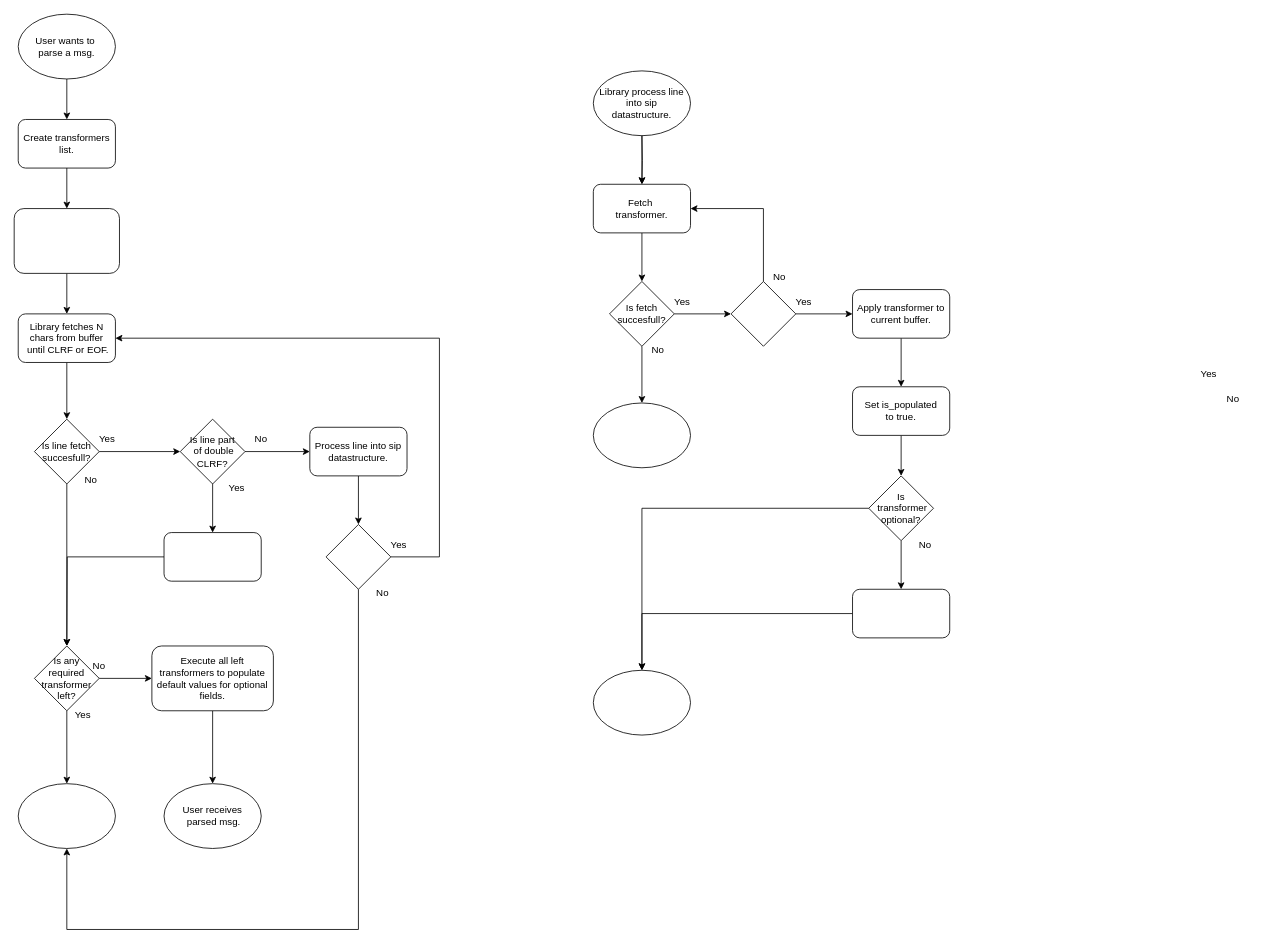
Image size: 1272x950. Some labels were removed from this diagram. The centre of each missing label's shape, as x and y in pixels:
Can transformer be applied?: the point at 763,313
Delete transformer from transformers list.: the point at 901,613
Is processing succesfull?: the point at 358,556
Line cannot be parsed: the point at 642,435
Line is parsed: the point at 642,702
Msg cannot be parsed.: the point at 66,815
Process rest of buffer as SIP body .: the point at 212,556
User passes to library uint8_t buffer representing raw SIP message.: the point at 66,240
